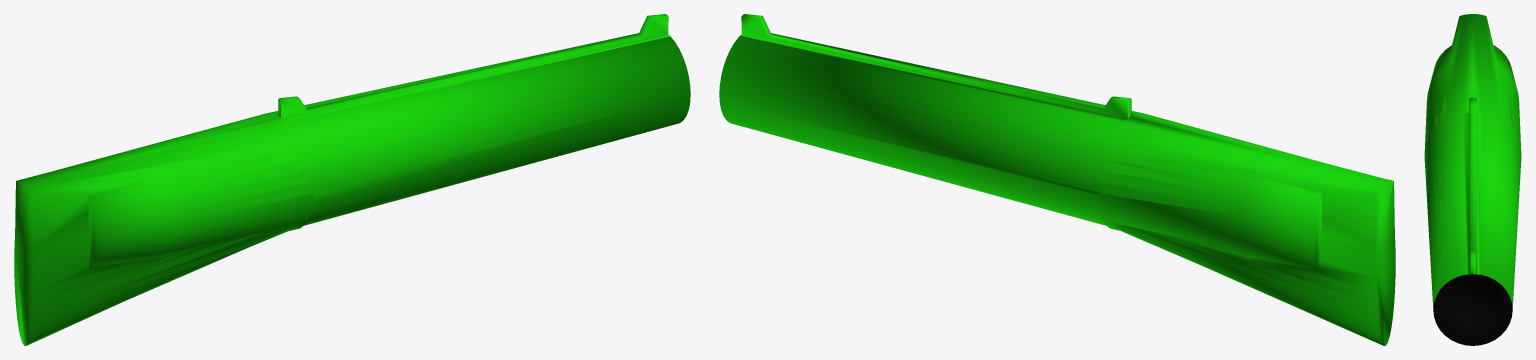
The model's file is rifle.fbx.
3 renders of one model, left to right at view 1: azimuth 30°, elevation 25°; view 2: azimuth 150°, elevation 25°; view 3: azimuth 270°, elevation 25°, orthographic. The views are drawn at different scales.
Parts seen in each view (by area): view 1: Cylinder; view 2: Cylinder; view 3: Cylinder.
Boxes of the visible parts, box(x1,y1,x2,y2) form: Cylinder: box(14, 14, 690, 345); Cylinder: box(719, 14, 1395, 345); Cylinder: box(1424, 14, 1521, 345).
Bounding box in the file's own units: 1526 × 419 × 244.
